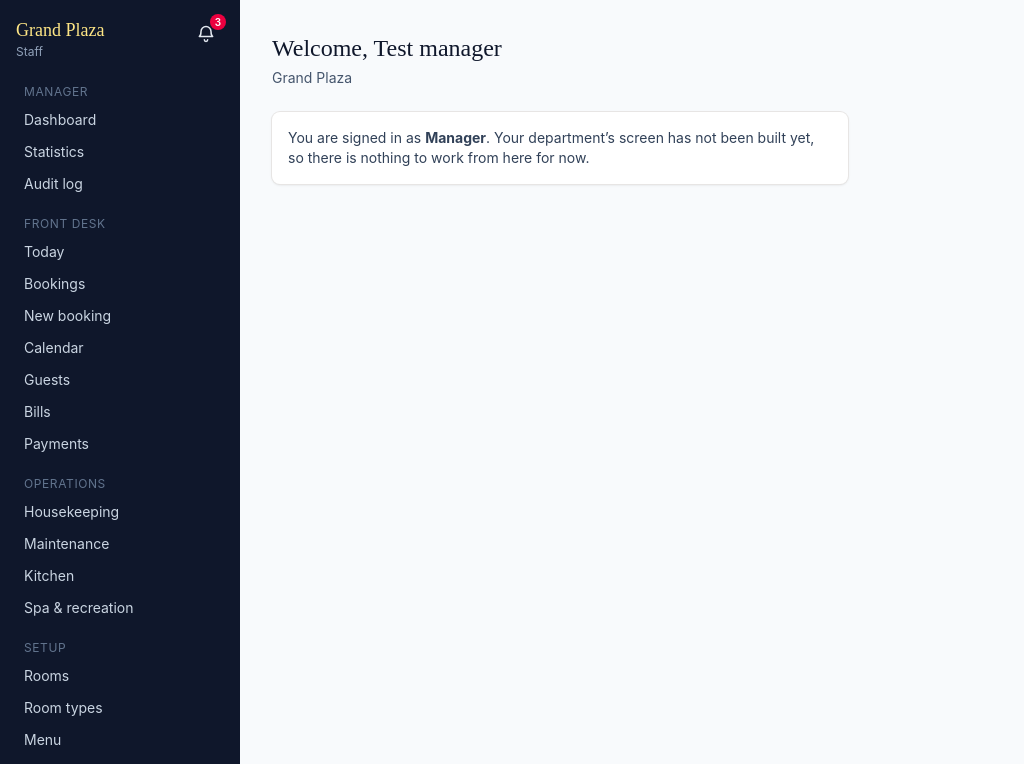
Scenario: the notification bell › marks one notification read and lowers the badge
Click the button named "Notifications" at x=206, y=34, box [188,16,224,52]
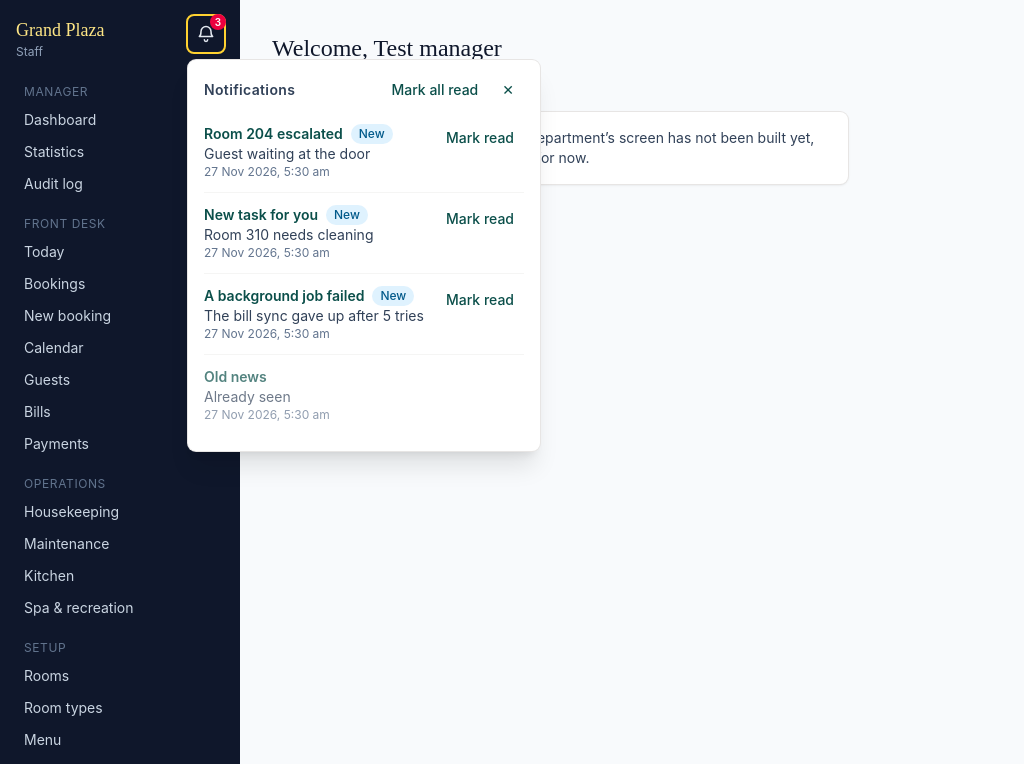
Click the button named "Mark \"Room 204 escalated\" as read" at x=480, y=138, box [436,124,524,152]
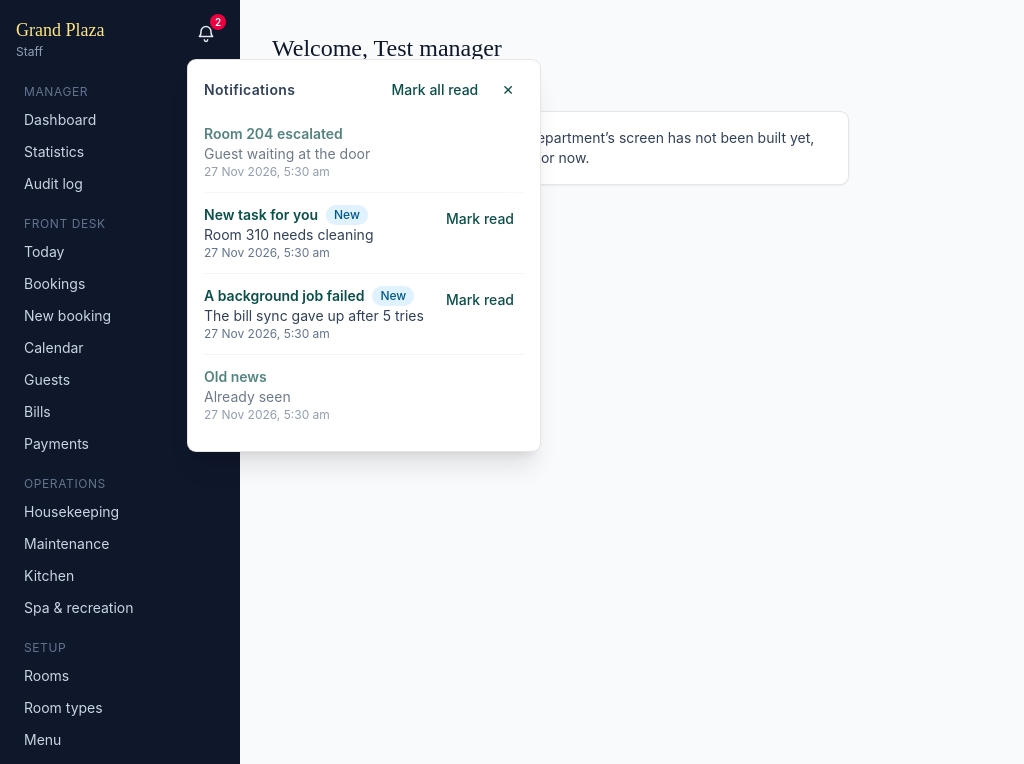
Result: the button named "Notifications, 2 unread" is shown at [188,16,224,52]
